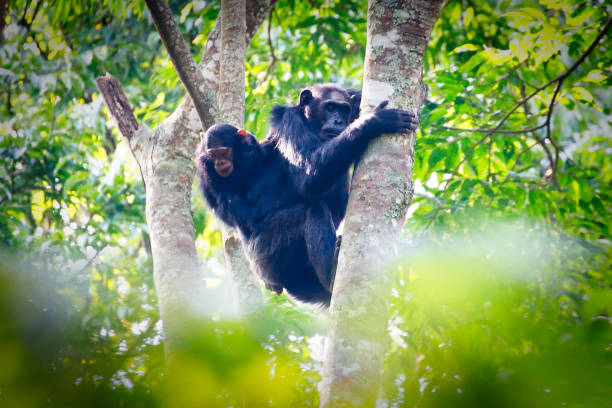chimpanzee: (177, 119, 257, 193), (289, 73, 357, 151)
